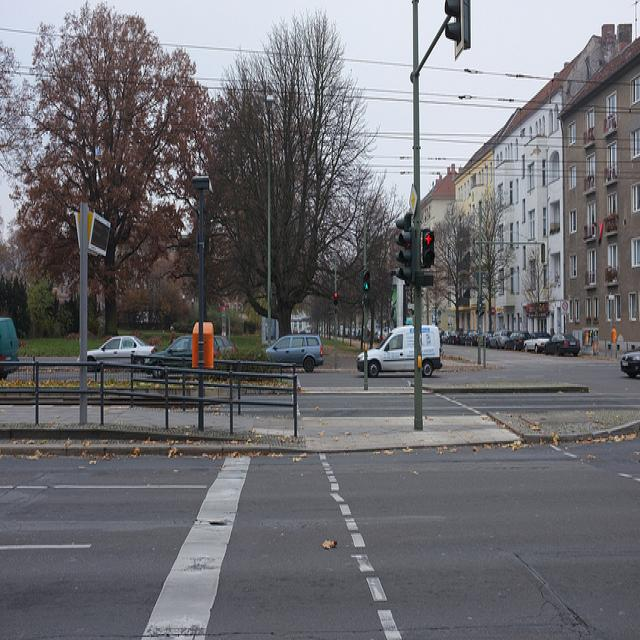Vehicle: (357, 324, 444, 376), (266, 334, 324, 373), (86, 337, 157, 360), (152, 337, 193, 373), (542, 334, 580, 358), (0, 317, 20, 362), (213, 335, 238, 359), (524, 332, 551, 354), (621, 349, 640, 378), (489, 332, 513, 349), (464, 330, 478, 346)
